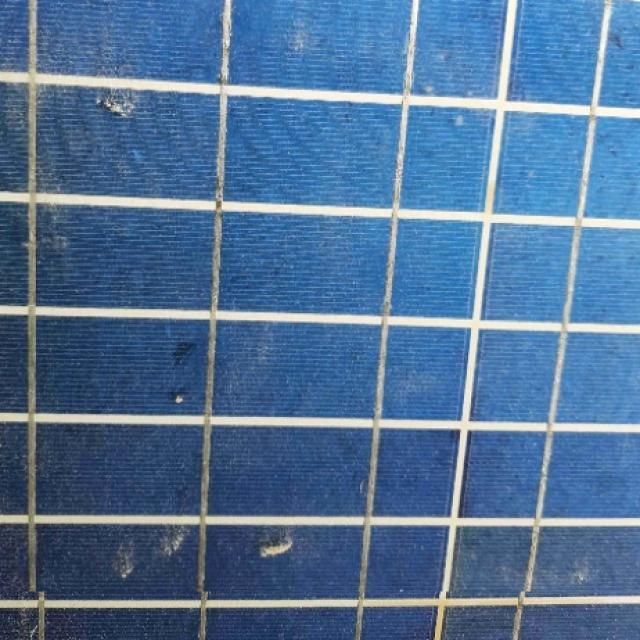Dirty: (0, 0, 640, 592)
